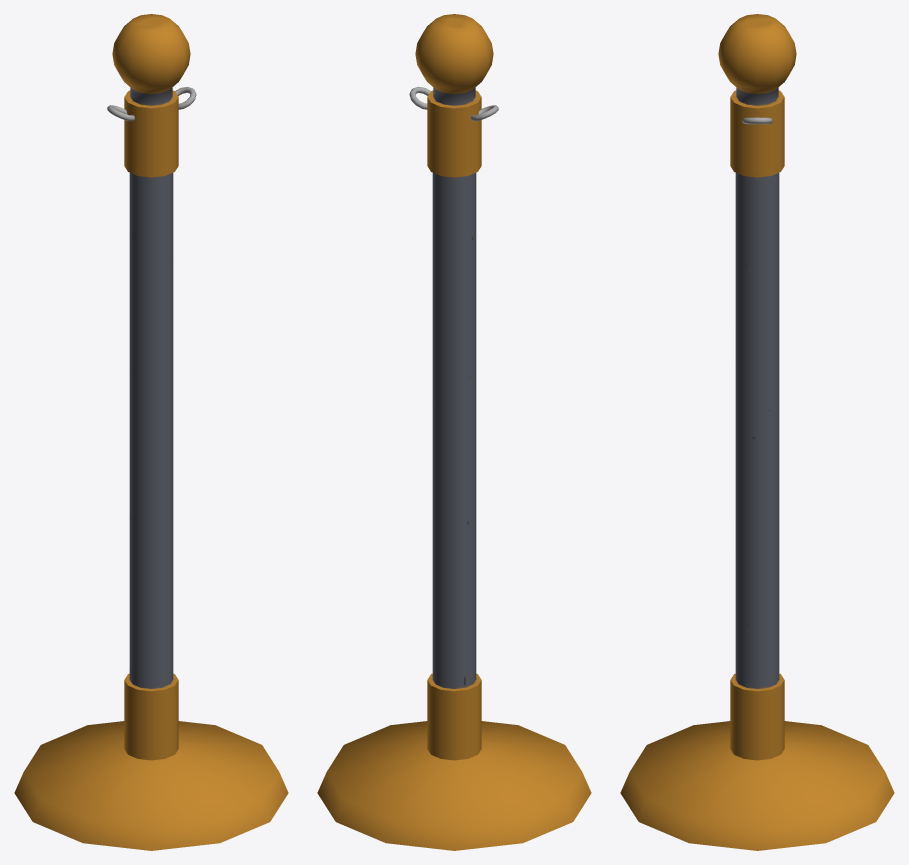
The model's file is barreira 1.fbx.
3 renders of one model, left to right at view 1: azimuth 30°, elevation 25°; view 2: azimuth 150°, elevation 25°; view 3: azimuth 270°, elevation 25°, orthographic.
Visible parts, largest first — view 1: barreira 1; view 2: barreira 1; view 3: barreira 1.
Boxes of the visible parts, x1=… form: barreira 1: x1=14, y1=14, x2=288, y2=850; barreira 1: x1=317, y1=14, x2=591, y2=850; barreira 1: x1=620, y1=14, x2=894, y2=850.
Bounding box in the file's own units: 30.68 × 95.05 × 30.68.
